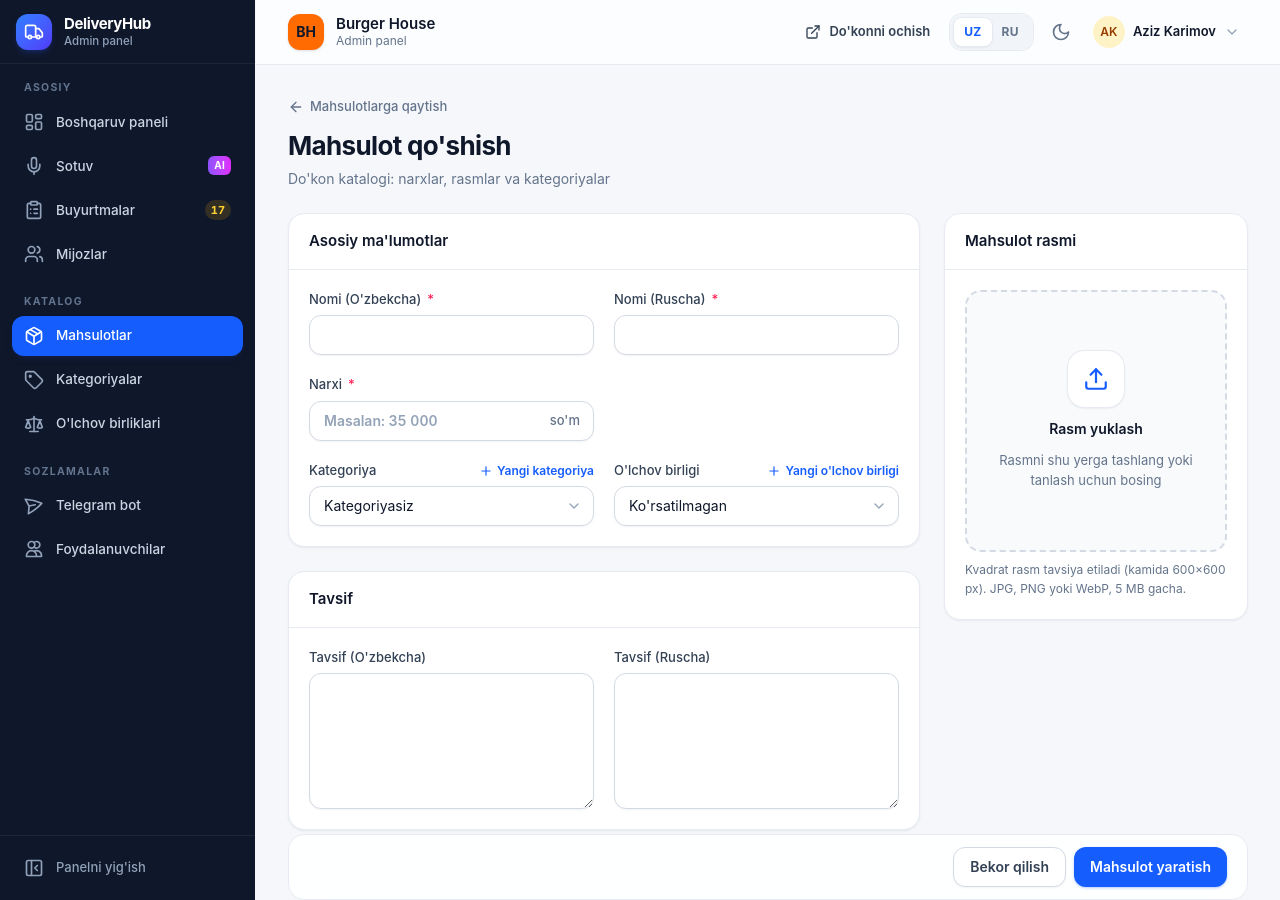
Test: products › shows server-side field errors next to the fields
In the field labelled "Nomi (O'zbekcha) *": (452, 335) [309,315,594,355], type "Chizburger"
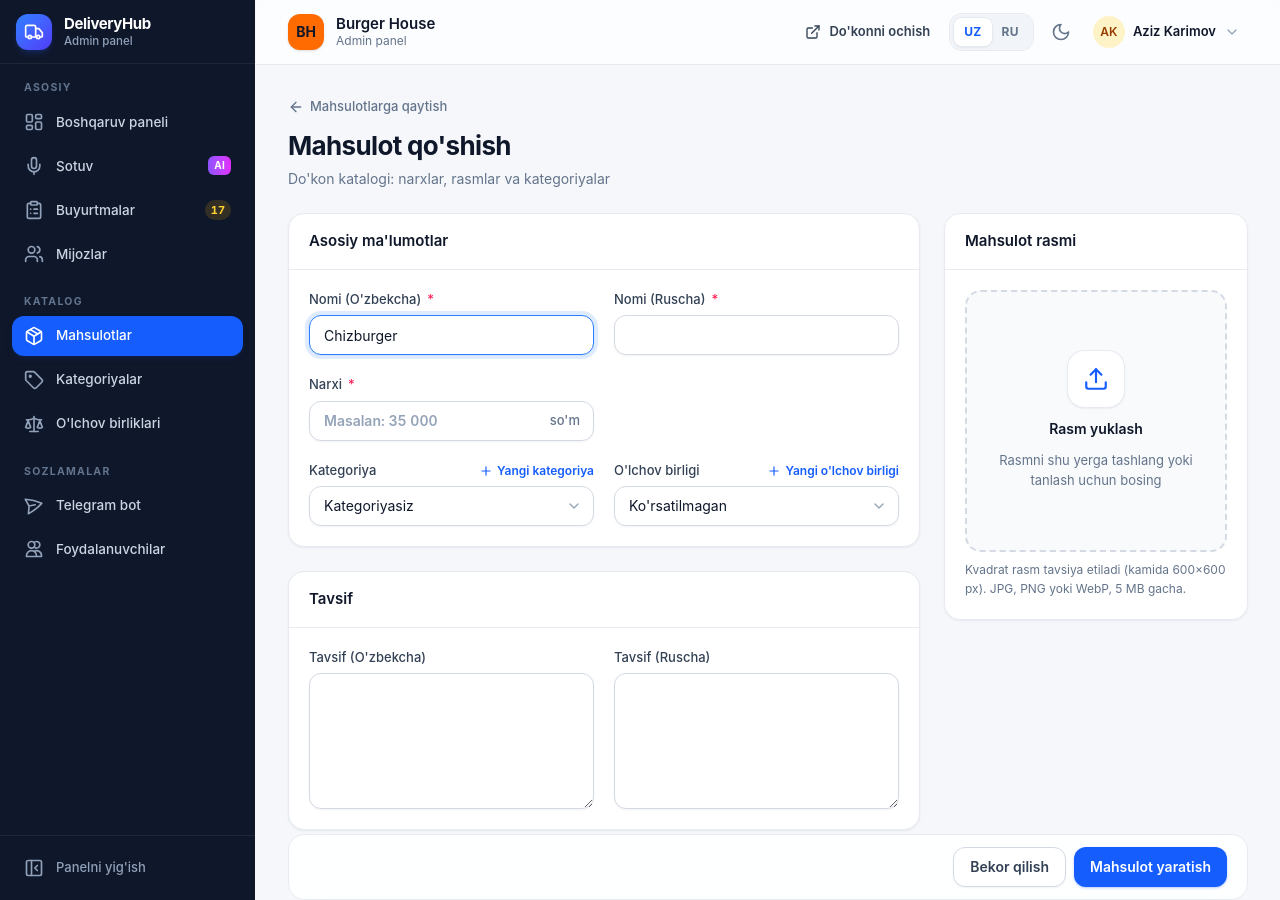
In the field labelled "Nomi (Ruscha) *": (756, 335) [614,315,899,355], type "Чизбургер"
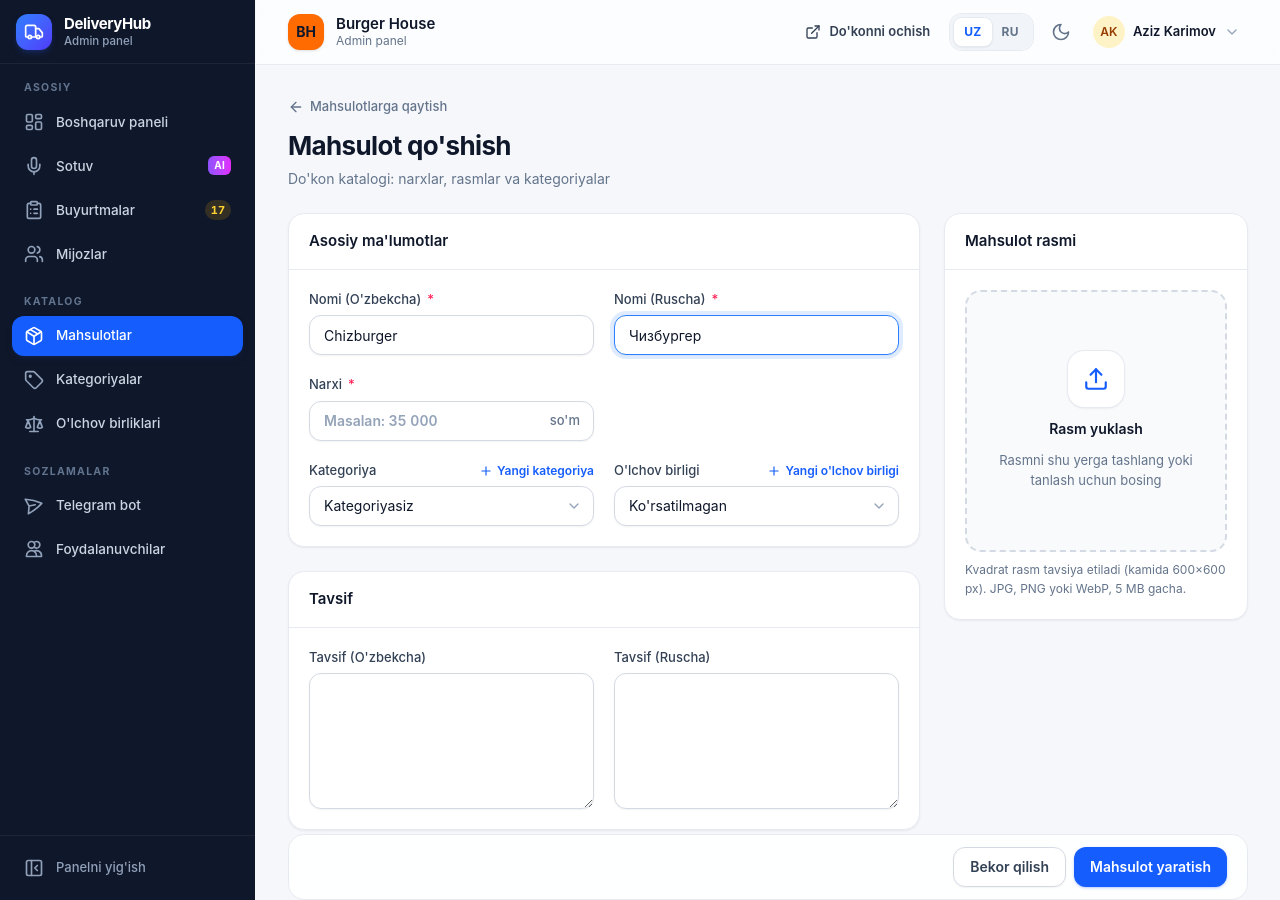
In the field labelled "Narxi *": (452, 421) [309,401,594,441], type "32000"
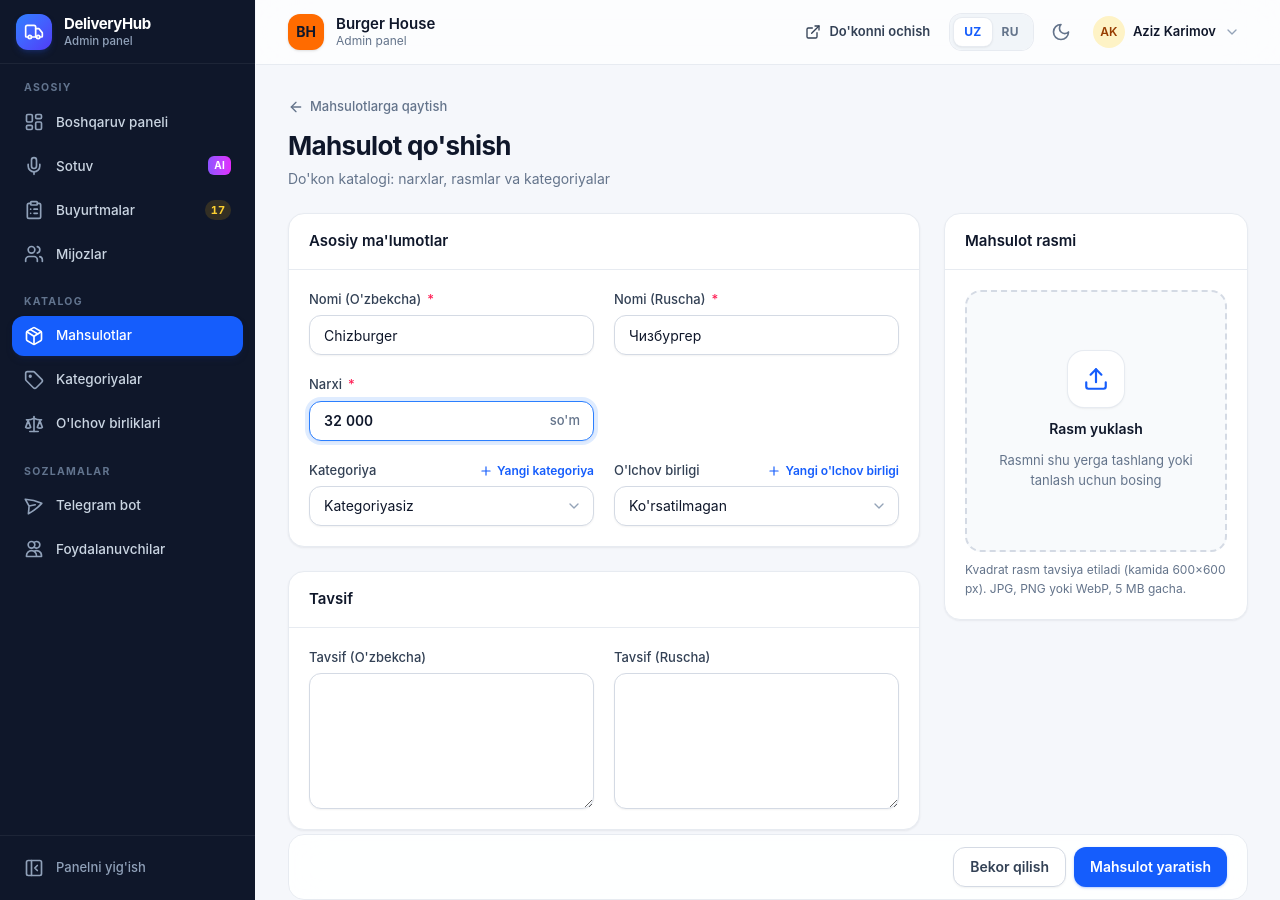
Click the button "Mahsulot yaratish": (1150, 867) [1074,847,1227,887]
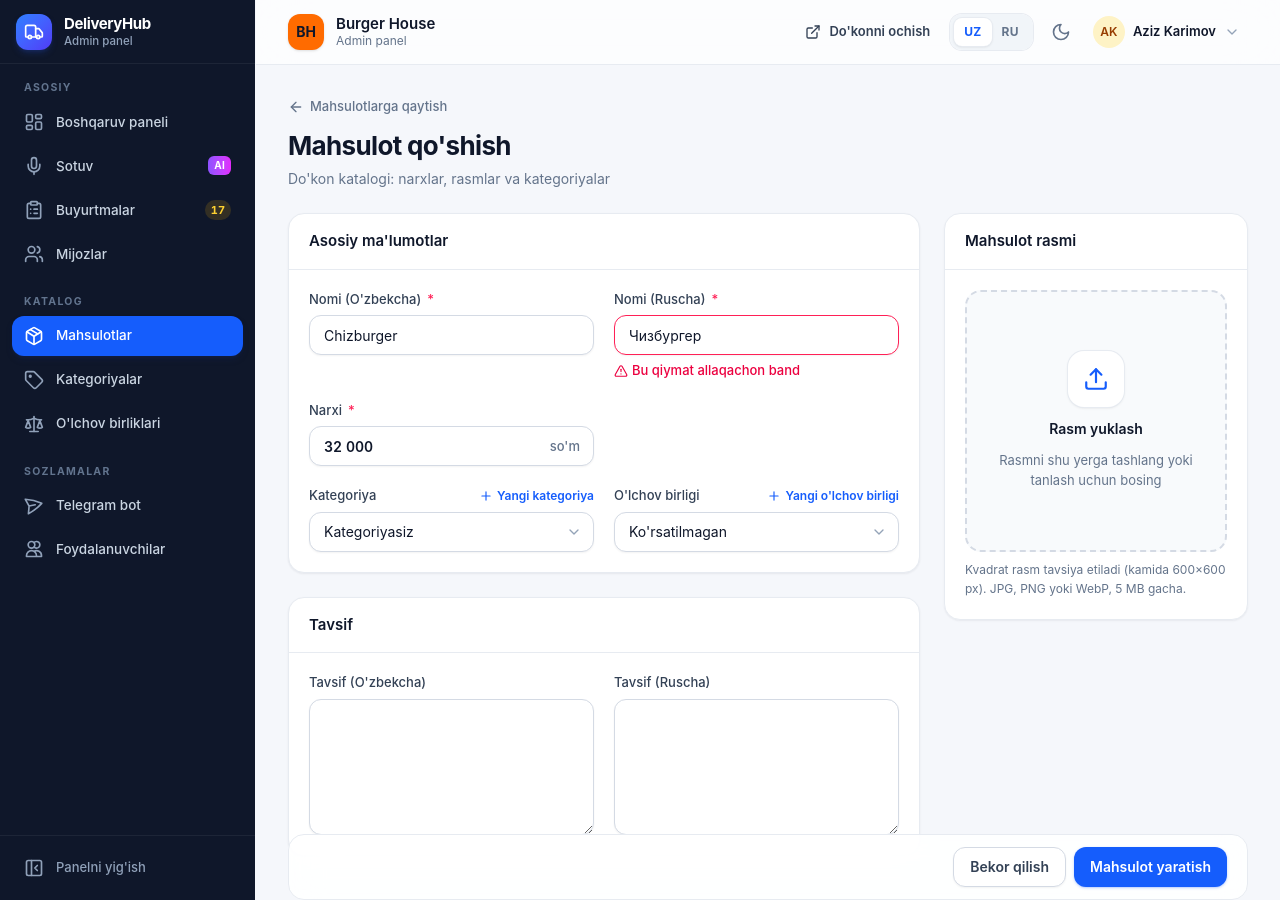
Now the text "Bu qiymat allaqachon band" is shown, box [614,362,800,378]
